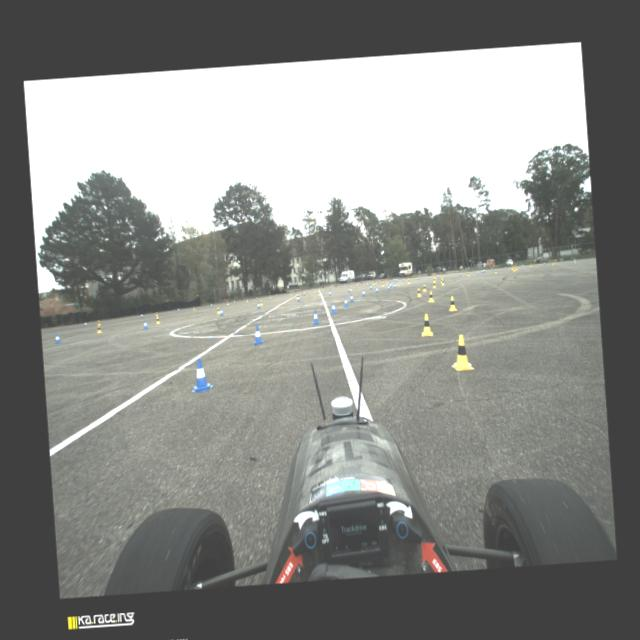blue_cone: (188, 358, 214, 393), (252, 324, 264, 346), (311, 310, 320, 324), (330, 301, 336, 313), (54, 333, 60, 344), (142, 319, 148, 329), (348, 294, 354, 302), (360, 288, 366, 296), (218, 308, 224, 316), (344, 297, 348, 307), (256, 302, 260, 310), (388, 282, 392, 288), (375, 286, 378, 292), (328, 290, 331, 296), (297, 296, 300, 302), (387, 284, 390, 290), (458, 270, 461, 276), (84, 321, 87, 326), (394, 282, 396, 288), (140, 312, 142, 318), (255, 296, 258, 300), (370, 284, 372, 289), (348, 287, 350, 292), (521, 264, 523, 268), (504, 265, 506, 269), (491, 267, 493, 271), (483, 268, 485, 272), (480, 268, 482, 272), (476, 270, 478, 274), (177, 308, 179, 312), (210, 302, 212, 306), (402, 277, 404, 281), (543, 261, 545, 265), (436, 274, 438, 278), (417, 276, 419, 280), (344, 282, 346, 286), (318, 286, 320, 290), (306, 288, 308, 292), (292, 290, 294, 294), (329, 285, 331, 288), (393, 278, 394, 282), (368, 280, 369, 284), (233, 300, 235, 302), (396, 278, 397, 281), (394, 278, 395, 281), (395, 278, 396, 281), (276, 293, 277, 296), (358, 282, 359, 284), (379, 280, 380, 282), (390, 278, 390, 281)
yellow_cone: (448, 333, 474, 371), (419, 313, 433, 337), (447, 295, 458, 311), (96, 324, 102, 334), (428, 290, 433, 302), (416, 287, 422, 297), (156, 316, 160, 324), (216, 306, 220, 314), (422, 284, 426, 292), (432, 282, 436, 288), (441, 278, 444, 286), (432, 277, 436, 283), (154, 311, 158, 316), (97, 320, 100, 326), (466, 271, 469, 276), (494, 268, 497, 273), (381, 281, 384, 286), (226, 300, 229, 305), (245, 297, 248, 302), (260, 299, 262, 305), (440, 277, 442, 283), (192, 306, 195, 310), (318, 290, 320, 296), (349, 286, 352, 290), (552, 260, 554, 265), (513, 266, 515, 271), (516, 265, 518, 270), (408, 278, 410, 283), (574, 258, 576, 263), (530, 262, 532, 266), (511, 265, 513, 269), (269, 294, 271, 298), (296, 294, 298, 298), (434, 274, 436, 278), (386, 280, 388, 284), (374, 280, 376, 284), (366, 280, 368, 284), (331, 284, 333, 288), (290, 290, 291, 294), (372, 280, 373, 284), (343, 283, 344, 287), (309, 288, 310, 292), (373, 280, 374, 284), (357, 282, 358, 285), (322, 286, 322, 290), (408, 278, 408, 280)
